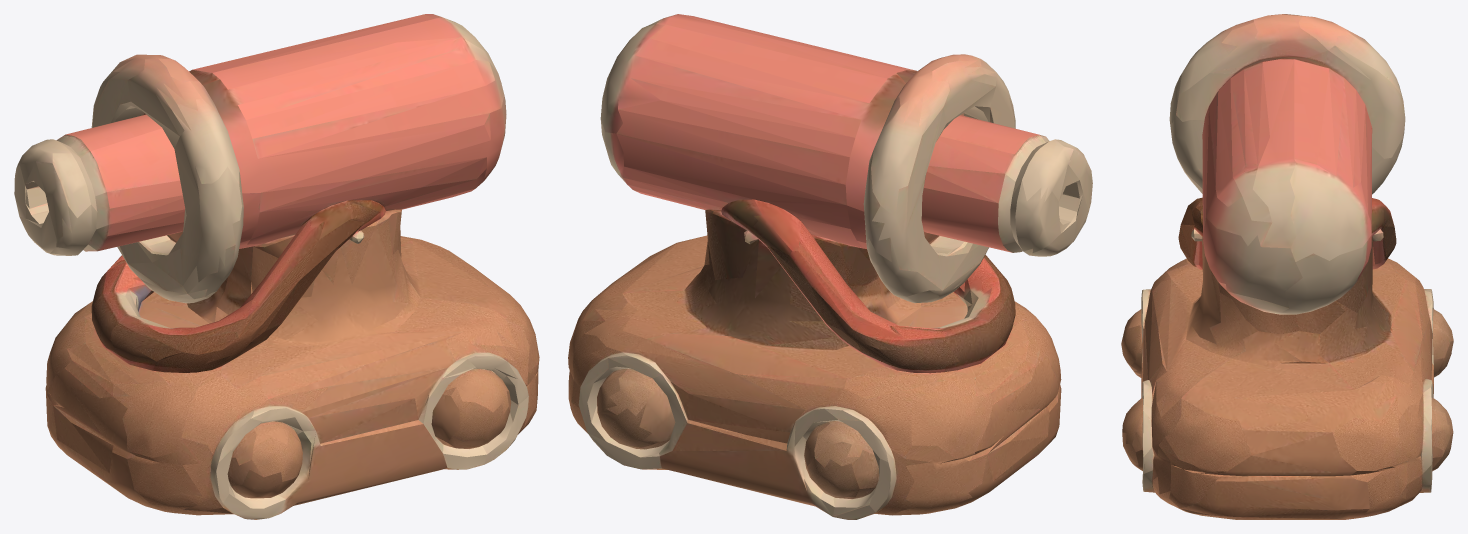
Rendered from pie_cannon.glb.
The picture shows the model from 3 angles, left to right: view 1: azimuth 30°, elevation 25°; view 2: azimuth 150°, elevation 25°; view 3: azimuth 270°, elevation 25°; orthographic projection. The views are drawn at different scales.
Bounding box in the file's own units: 1.9 × 1.58 × 1.29.
1 material, 1 textured.
